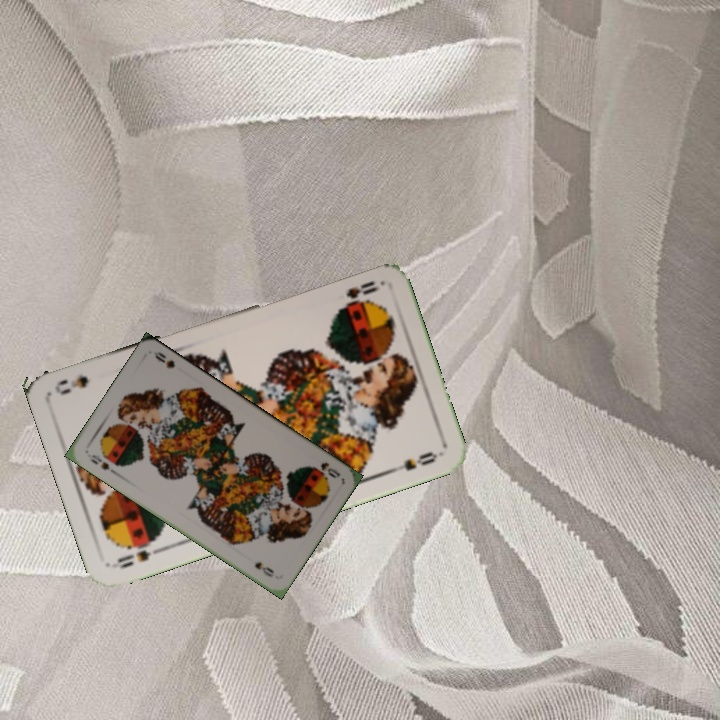SO: (113, 536, 167, 571), (342, 277, 381, 302), (83, 450, 119, 477), (309, 458, 343, 481)
